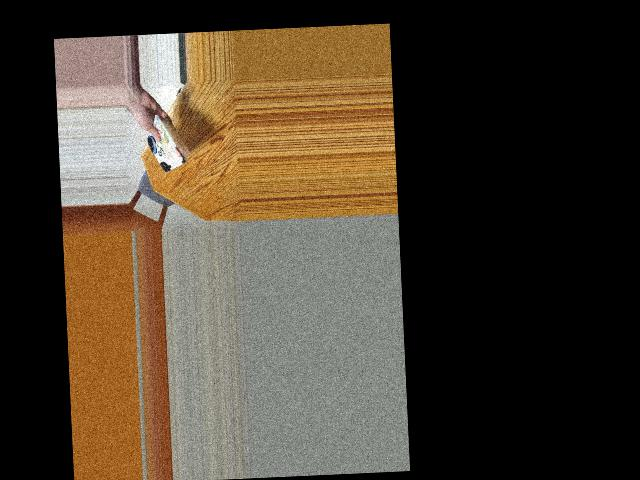cheese: (139, 122, 195, 170)
